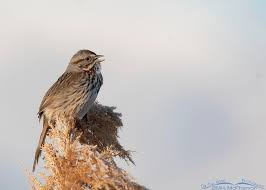hsparrow: (29, 45, 110, 177)
